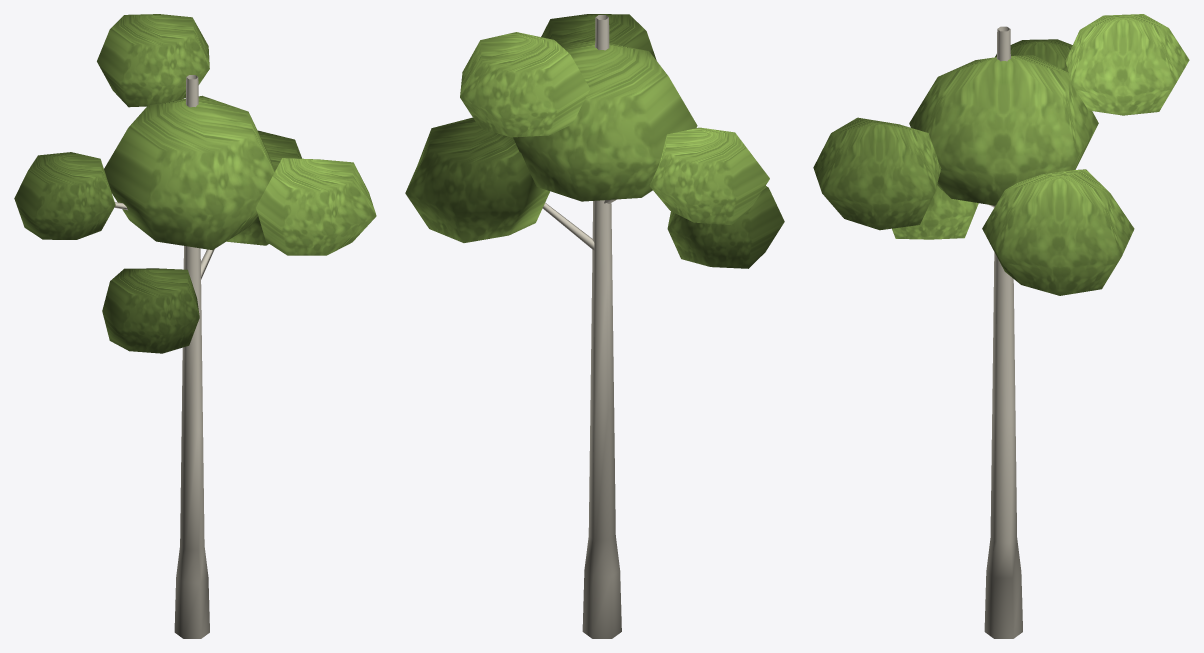
Rendered from forest-tree-birch.glb.
The picture shows the model from 3 angles, left to right: view 1: azimuth 30°, elevation 25°; view 2: azimuth 150°, elevation 25°; view 3: azimuth 270°, elevation 25°; orthographic projection. The views are drawn at different scales.
Visible parts, largest first — view 1: Crown, Trunk; view 2: Crown, Trunk; view 3: Crown, Trunk.
Boxes of the visible parts, x1,y1,x2,y2 form: Crown: (14, 14, 376, 353); Trunk: (114, 75, 214, 638); Crown: (405, 14, 784, 268); Trunk: (542, 15, 621, 638); Crown: (813, 14, 1189, 295); Trunk: (984, 26, 1022, 638).
Size of the model in its own units: 4.48 by 8.24 by 4.53.
Materials: 2 (1 with a texture image).
